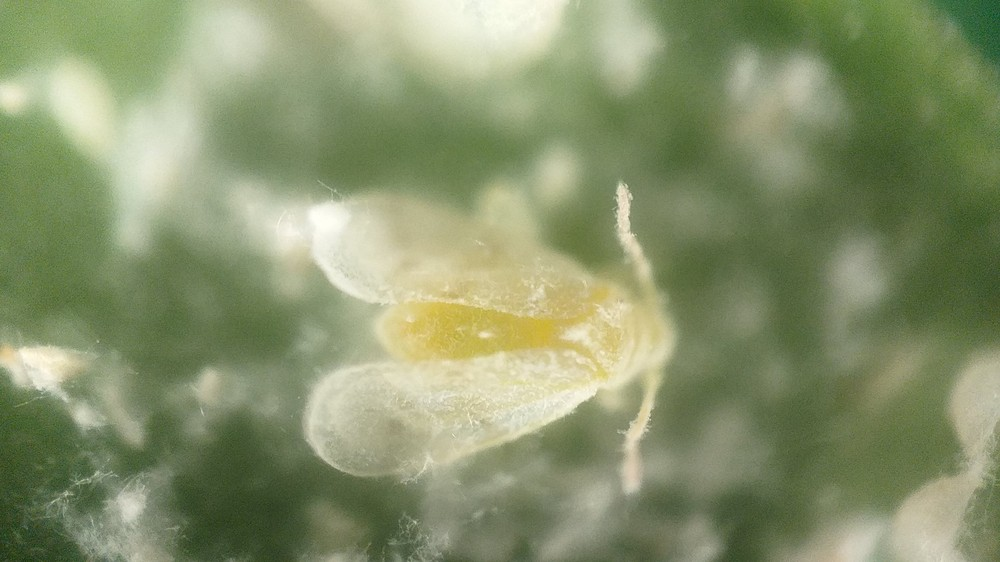Mosca Blanca: (278, 158, 717, 521)
